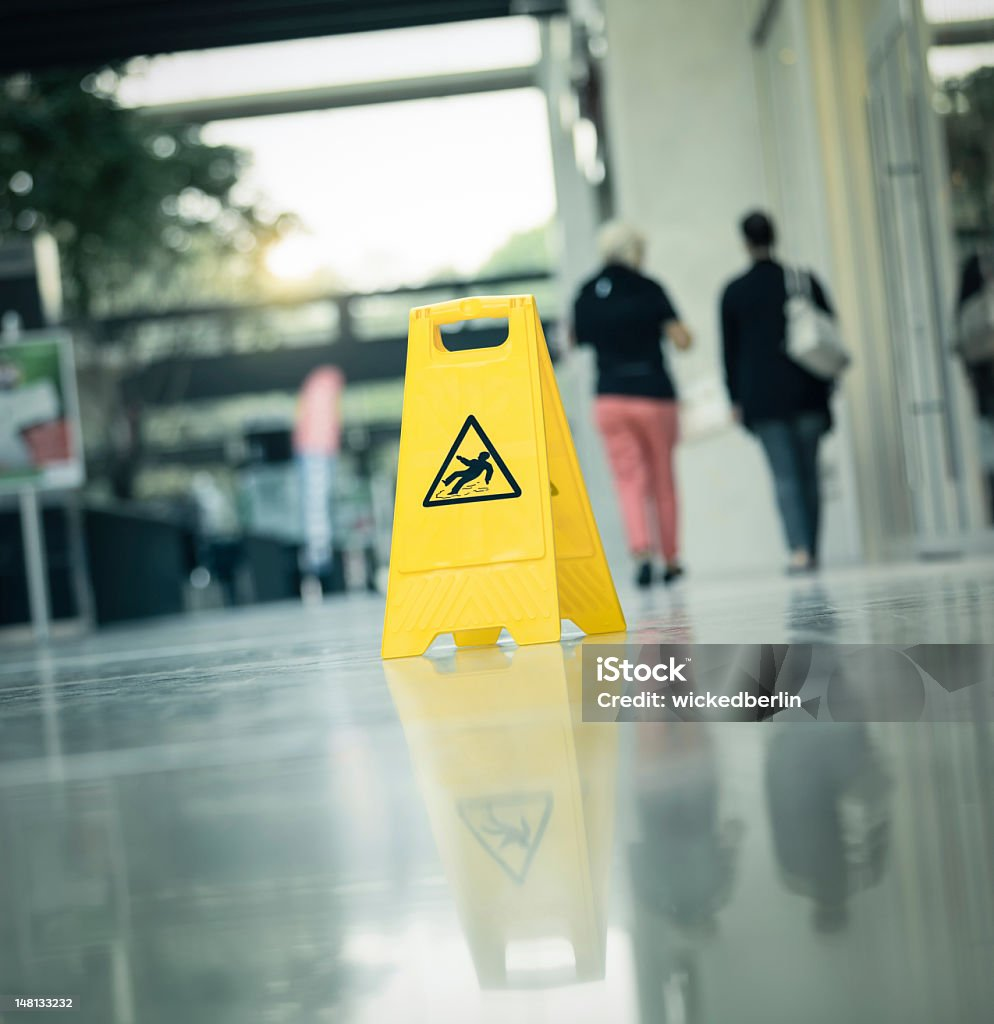wet caution sign: (350, 272, 655, 697)
